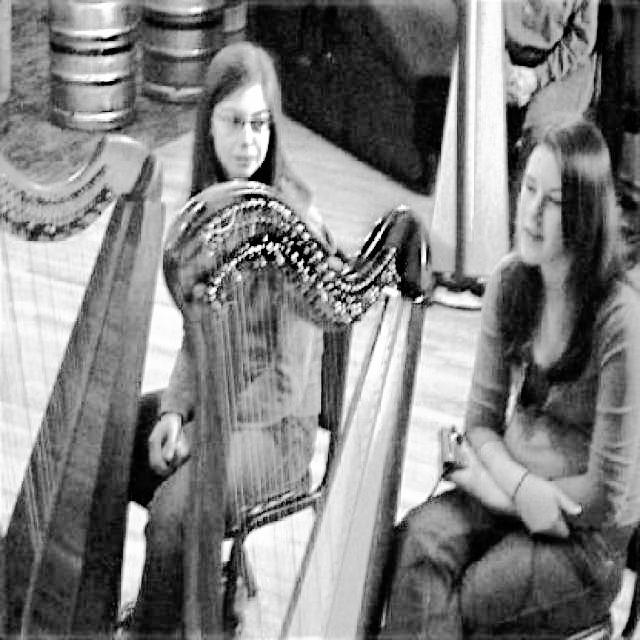Person: (383, 109, 640, 640), (120, 29, 340, 640)
